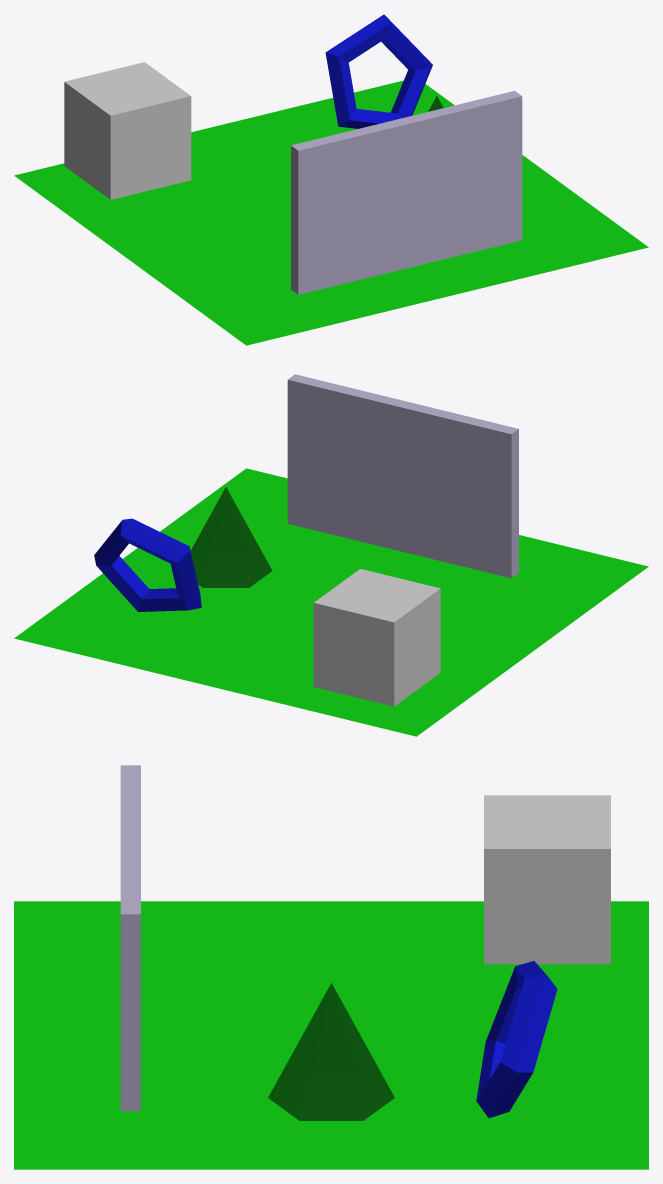
The model's file is test_scene_materials.obj.
The picture shows the model from 3 angles, top to bottom: view 1: azimuth 30°, elevation 25°; view 2: azimuth 150°, elevation 25°; view 3: azimuth 270°, elevation 25°; orthographic projection. The views are drawn at different scales.
Parts seen in each view (by area): view 1: Plane, Cube.002, Cube.001, Torus; view 2: Plane, Cube.002, Cube.001, Torus, Cone; view 3: Plane, Cube.001, Cone, Torus, Cube.002.
Boxes of the visible parts, x1,y1,x2,y2 form: Plane: [14, 80, 648, 345]; Cube.002: [291, 91, 522, 294]; Cube.001: [64, 62, 191, 199]; Torus: [325, 14, 432, 128]; Plane: [14, 468, 648, 736]; Cube.002: [287, 374, 518, 578]; Cube.001: [313, 569, 440, 706]; Torus: [94, 518, 201, 611]; Cone: [190, 487, 271, 587]; Plane: [14, 901, 648, 1169]; Cube.001: [484, 795, 610, 964]; Cone: [268, 983, 394, 1120]; Torus: [476, 961, 557, 1118]; Cube.002: [120, 765, 140, 1111].
Size of the model in its own units: 10 by 3.44 by 10.
